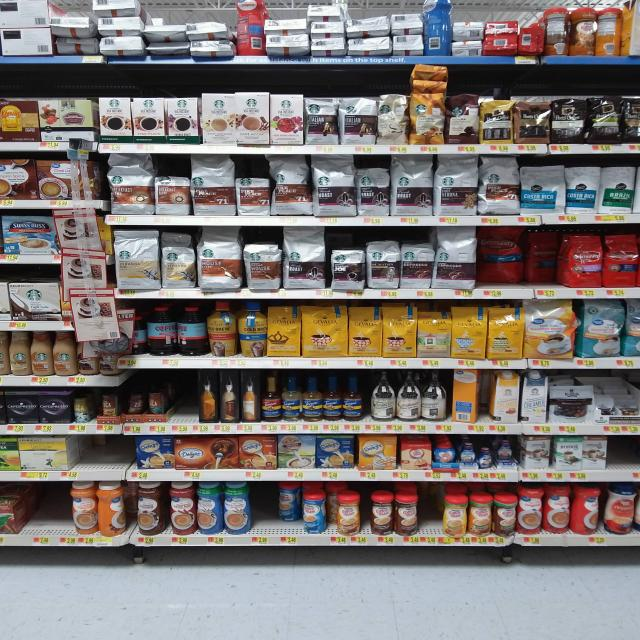empty: (13, 482, 77, 536), (77, 429, 137, 470), (242, 483, 283, 539), (164, 374, 204, 430), (414, 486, 452, 544), (607, 438, 640, 475)
